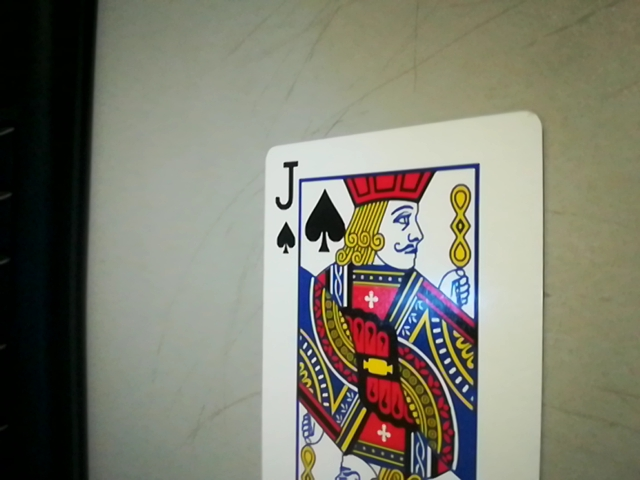ht j: (268, 153, 306, 256)
